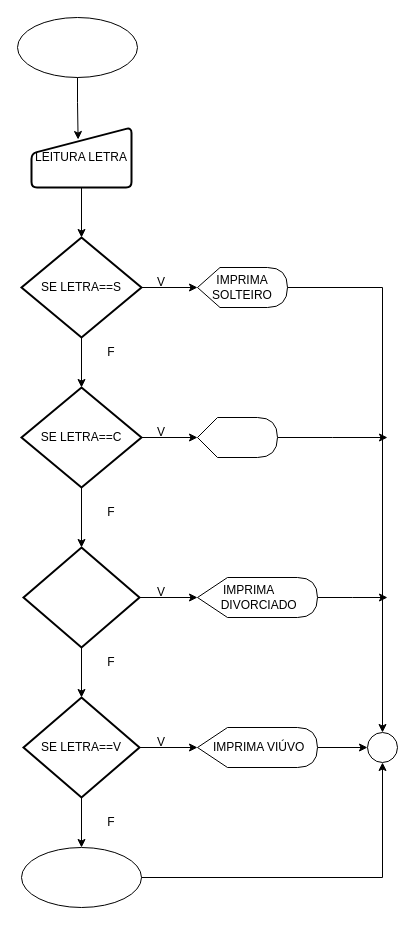
Some shapes in this 415 by 925 pixel diagram are drawn without their labels. Here are the shapes that lost their labels. From the top down, the centre of each, then its label:
(77,47): INICIO
(237,437): IMPRIMA CASADO
(81,597): SE LETRA==D
(81,877): FIM
